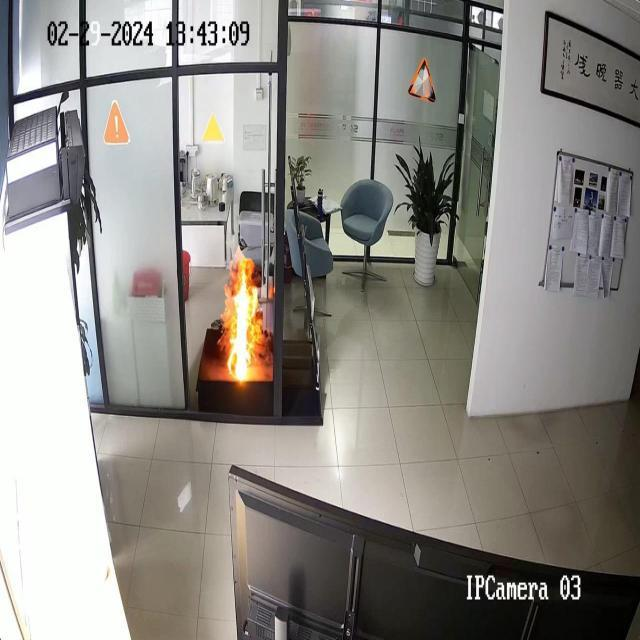smoke: (222, 243, 260, 382)
